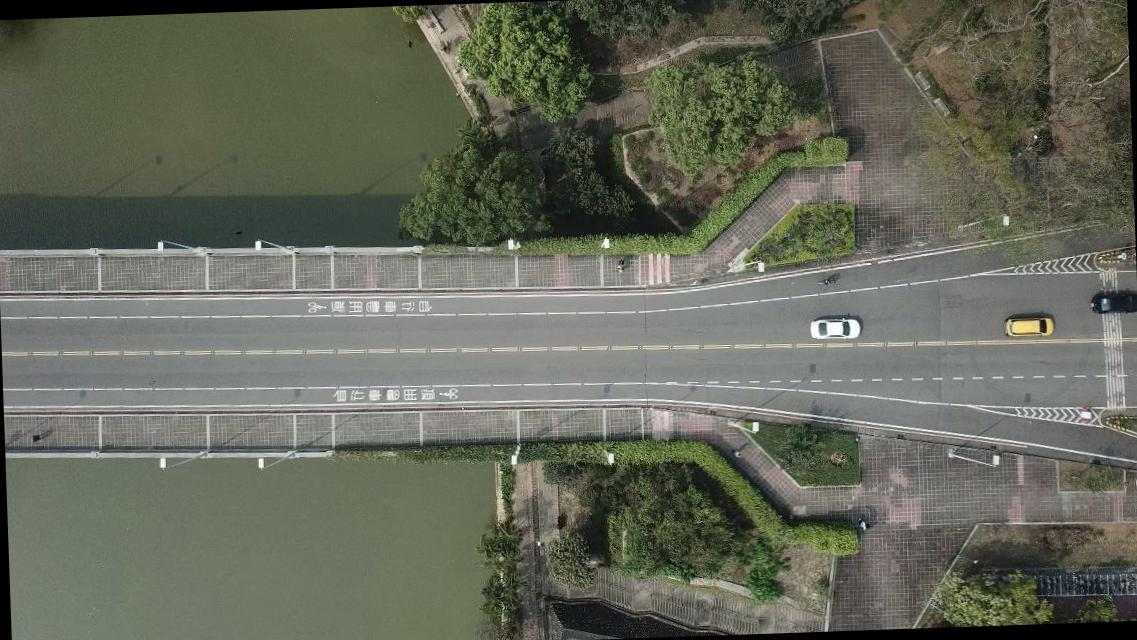vehicle: (809, 314, 861, 339), (1003, 314, 1055, 337), (1090, 291, 1136, 315)
